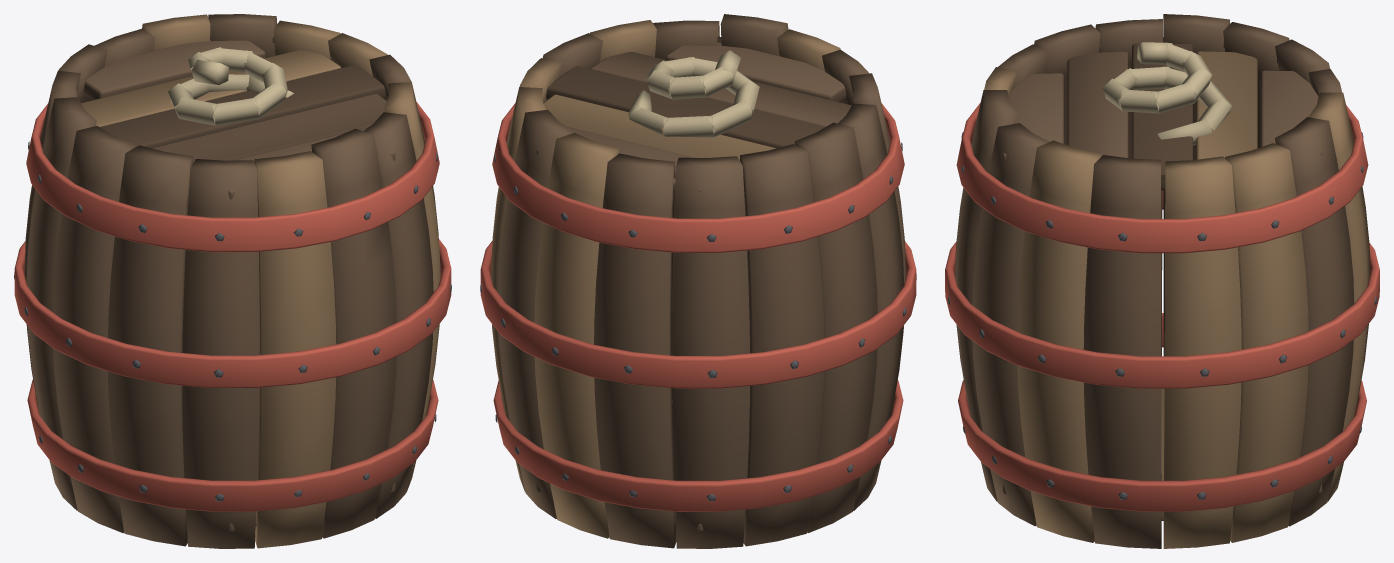
The model's file is keg.abe438b8.glb.
The picture shows the model from 3 angles, left to right: view 1: azimuth 30°, elevation 25°; view 2: azimuth 150°, elevation 25°; view 3: azimuth 270°, elevation 25°; orthographic projection.
Parts seen in each view (by area): view 1: keg; view 2: keg; view 3: keg.
Part boxes in pixels (x1,y1,x2,y2): keg: (14,14,451,548); keg: (480,14,916,548); keg: (945,14,1379,548).
Bounding box in the file's own units: 0.8227 × 0.8827 × 0.8272.
